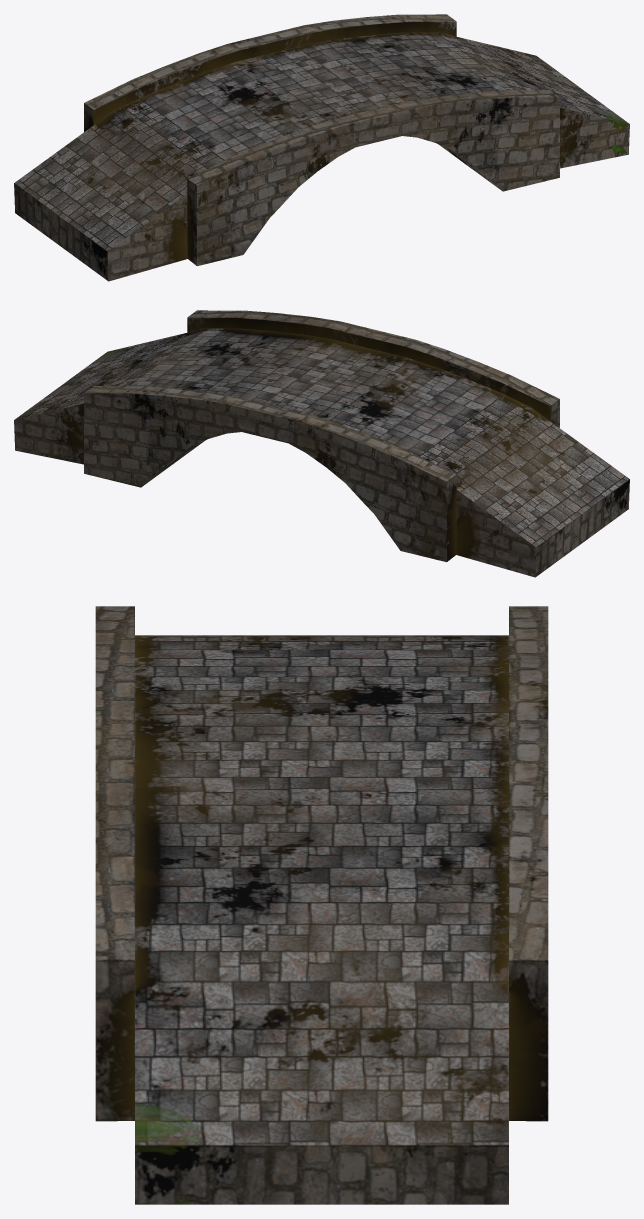
The model's file is small_bridge.glb.
3 views of the same model, one above another, from view 1: azimuth 30°, elevation 25°; view 2: azimuth 150°, elevation 25°; view 3: azimuth 270°, elevation 25° (orthographic). The views are drawn at different scales.
Parts seen in each view (by area): view 1: pCube1; view 2: pCube1; view 3: pCube1.
Boxes of the visible parts, <box> form: pCube1: <box>14,14,629,281</box>; pCube1: <box>14,310,629,577</box>; pCube1: <box>95,606,548,1204</box>.
Bounding box in the file's own units: 63.38 × 12.5 × 23.77.
1 material, 1 textured.
